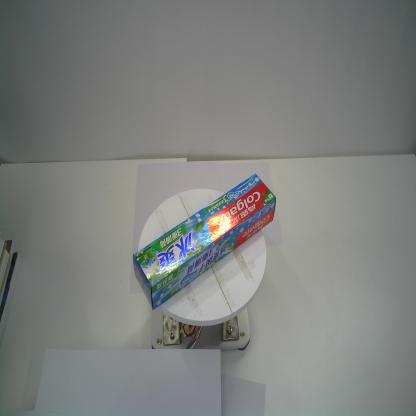Personal Hygiene: (132, 173, 277, 310)
